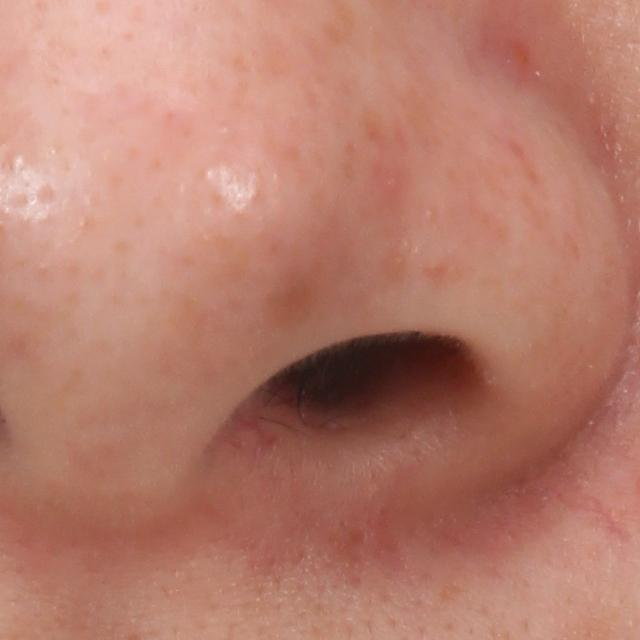comedo: (7, 150, 27, 174)
